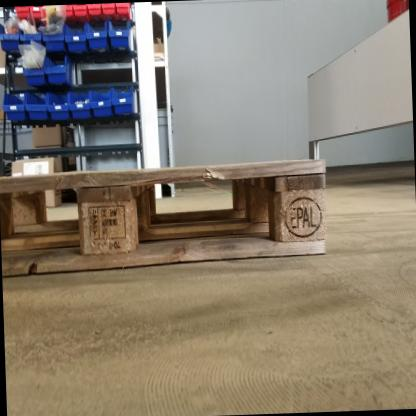BoxFace: (0, 154, 331, 281)
